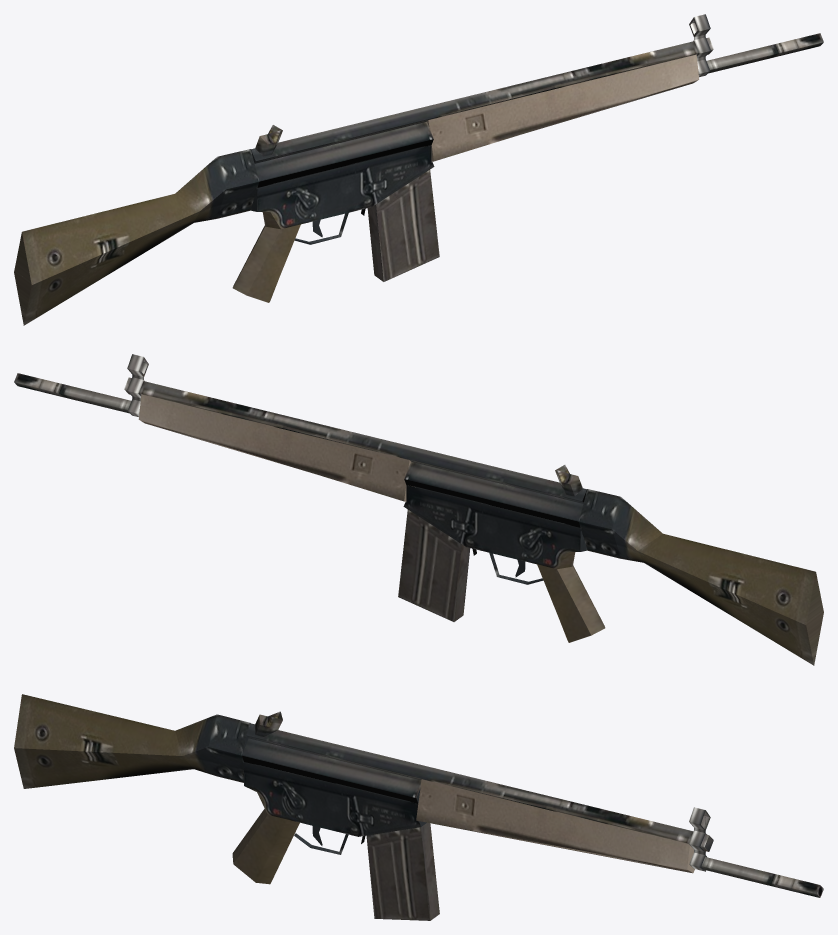
Rendered from rifle.glb.
3 renders of one model, top to bottom at view 1: azimuth 30°, elevation 25°; view 2: azimuth 150°, elevation 25°; view 3: azimuth 330°, elevation 25°, orthographic.
Parts seen in each view (by area): view 1: G3, G3Magazene; view 2: G3, G3Magazene; view 3: G3, G3Magazene.
Boxes of the visible parts, bbox=[...] form: G3: bbox=[14, 14, 823, 325]; G3Magazene: bbox=[367, 147, 439, 281]; G3: bbox=[14, 354, 823, 665]; G3Magazene: bbox=[398, 487, 470, 621]; G3: bbox=[14, 694, 823, 897]; G3Magazene: bbox=[366, 794, 439, 920].
Bounding box in the file's own units: 4.36 × 0.965 × 0.1685.
4 materials, 4 textured.
